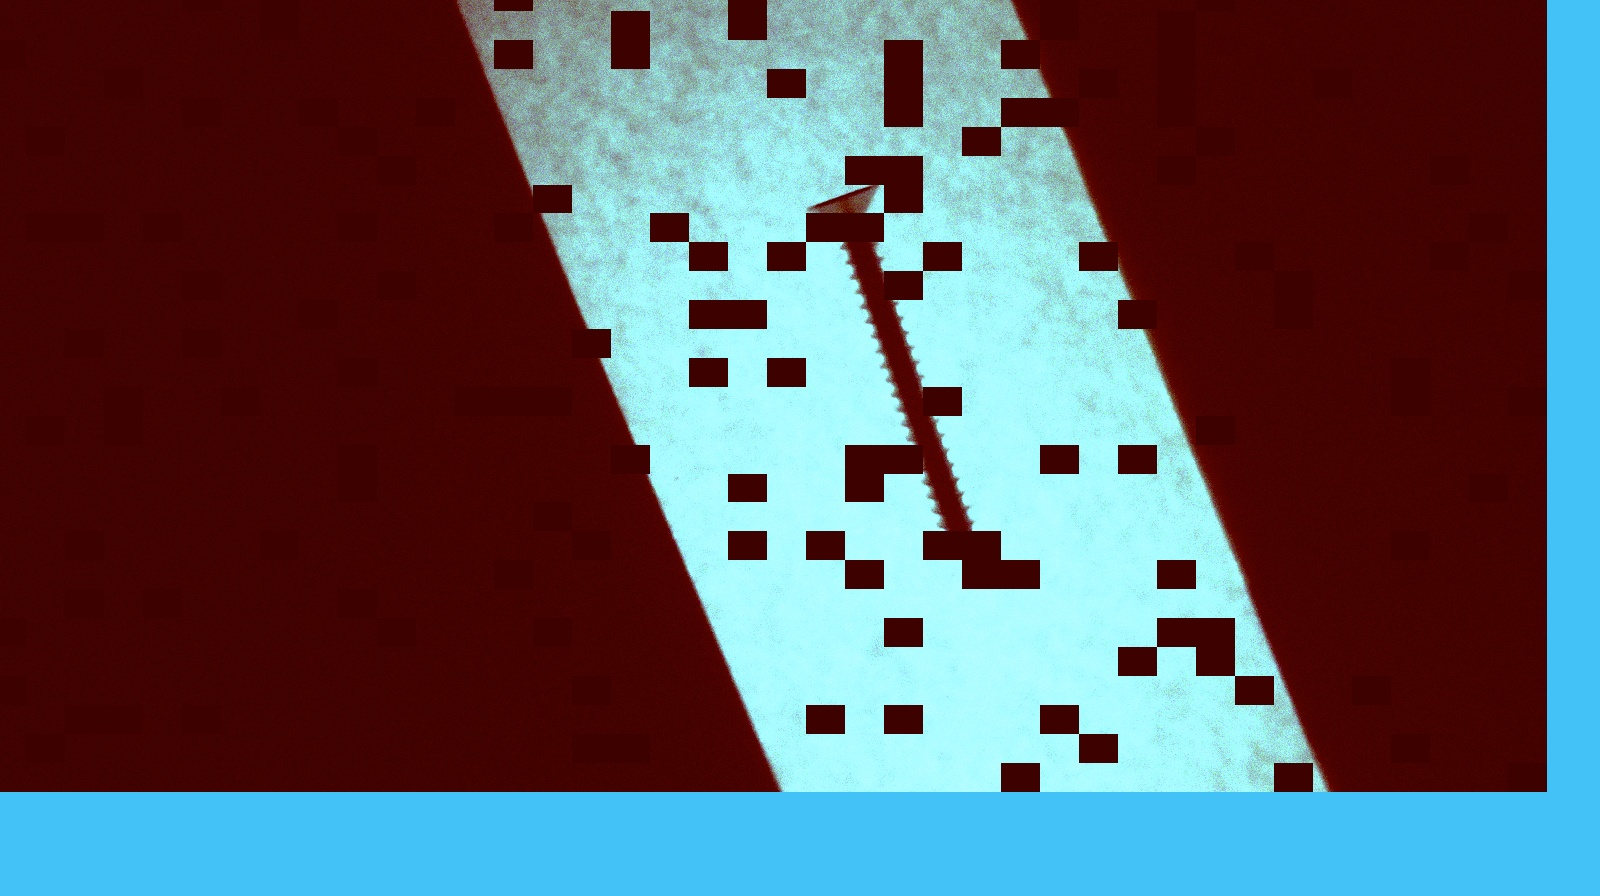S002: (774, 159, 1013, 576)
